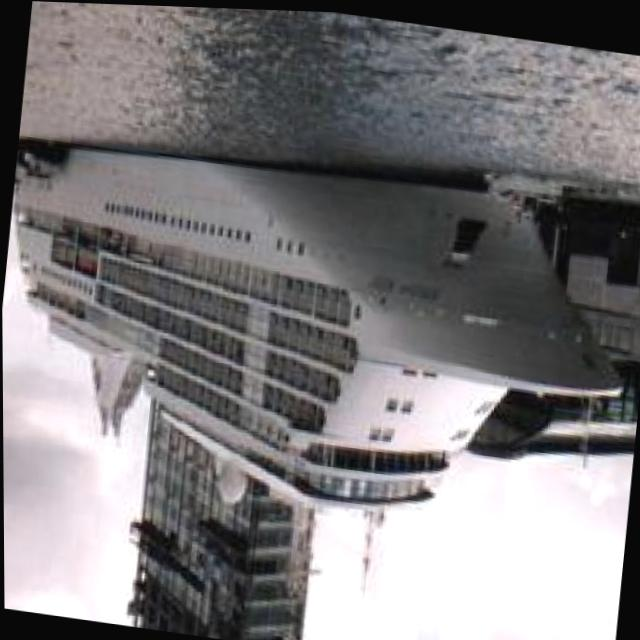ship2: (11, 142, 620, 511)
